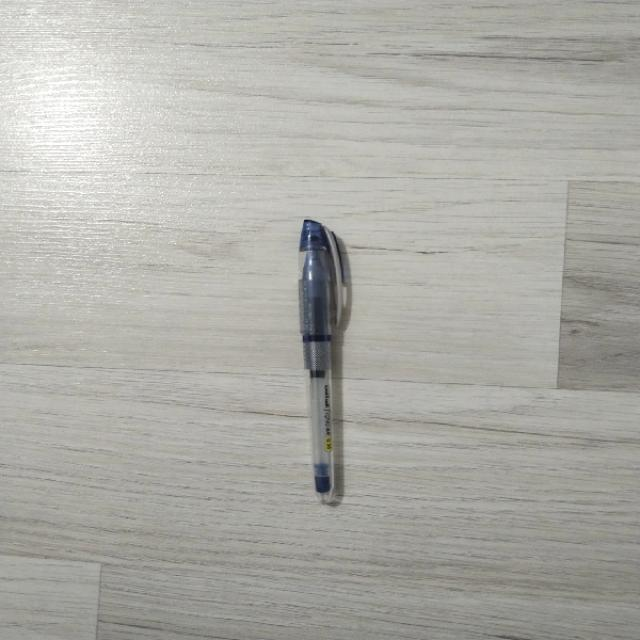pen: (300, 220, 343, 503)
